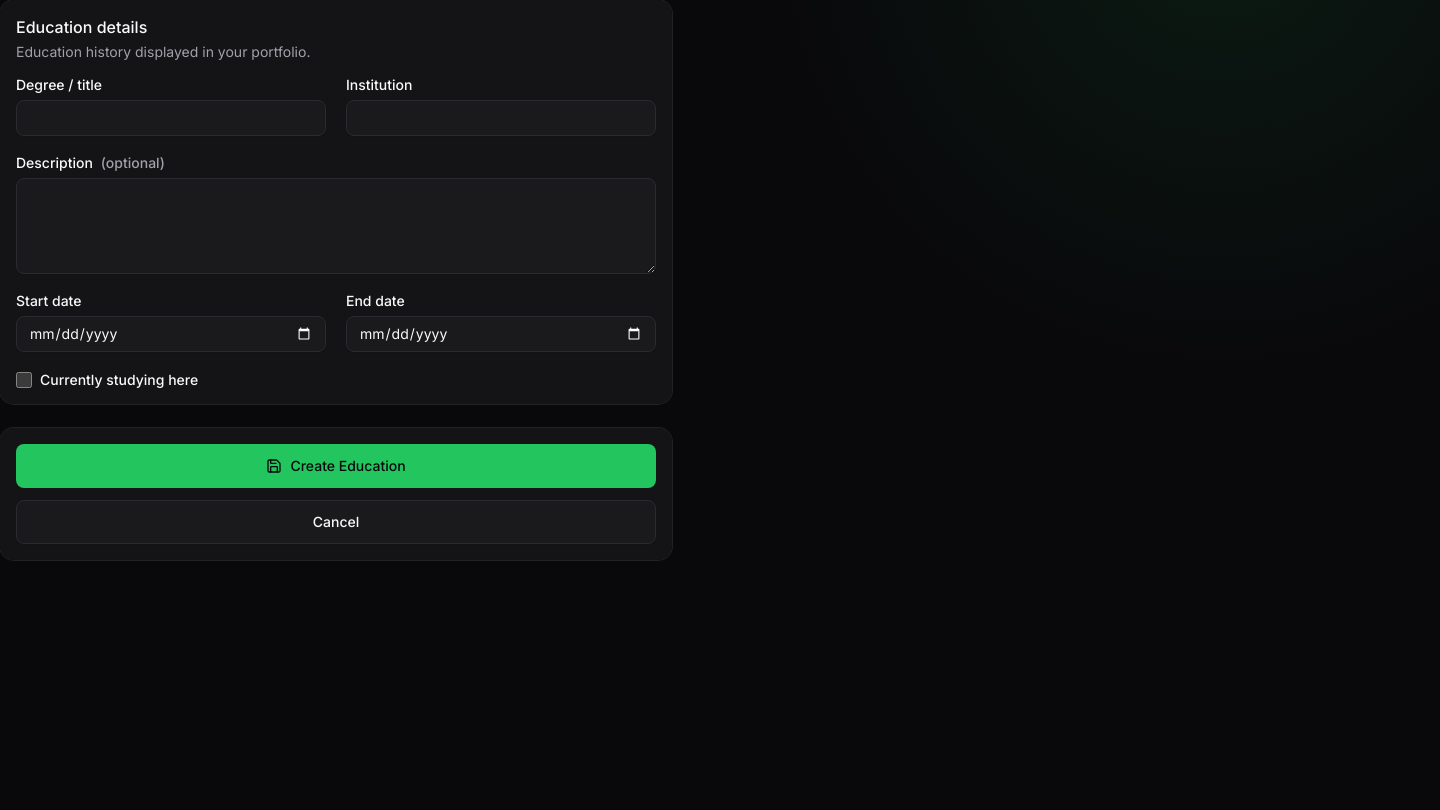
Test case: EducationForm › requires end date when not currently studying
Type "BSc CS" into the field labelled "Degree / title" at [171, 118], box [16,100,326,136]
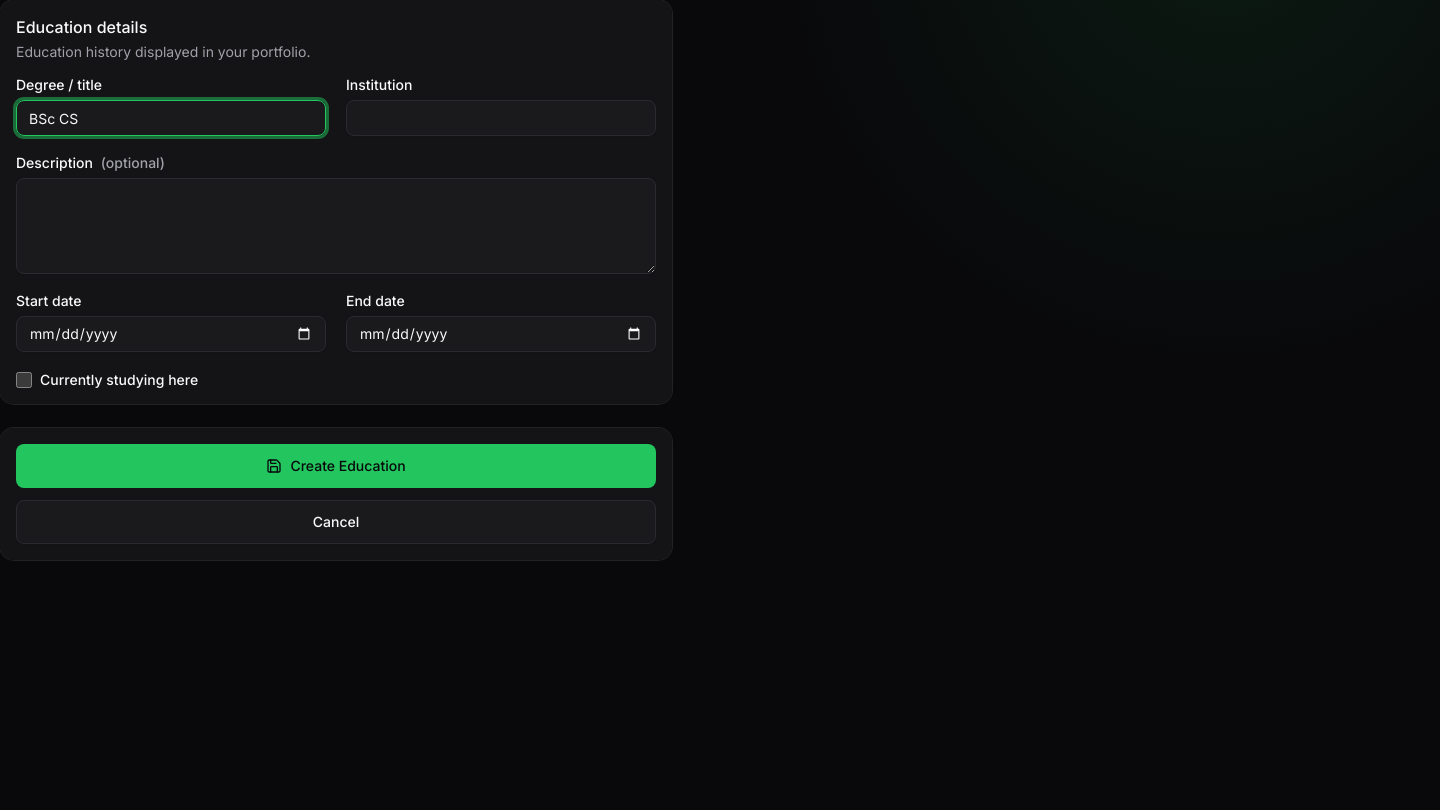
Type "MIT" into the field labelled "Institution" at [501, 118], box [346,100,656,136]
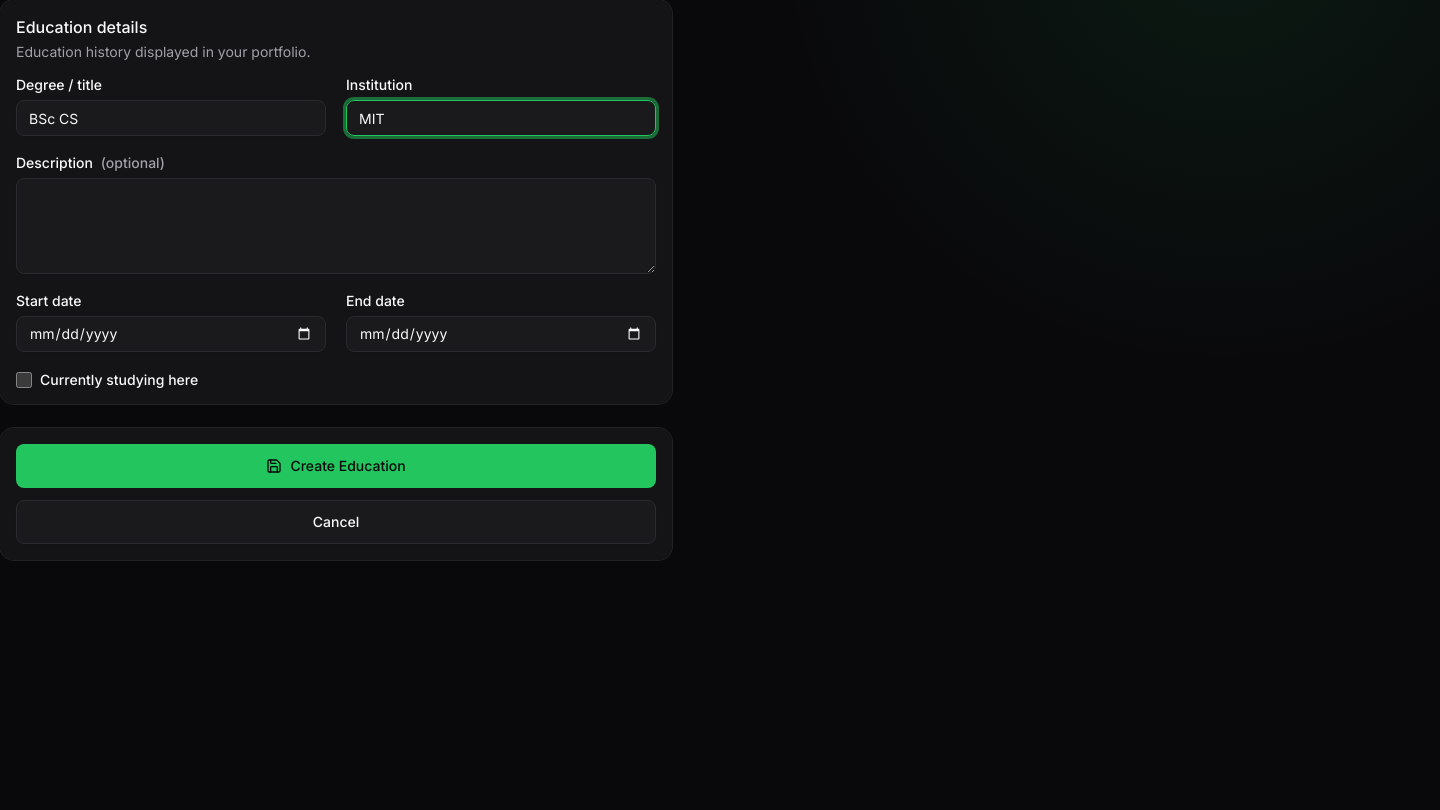
Type "2018-09-01" into the date field labelled "Start date" at [171, 334], box [16,316,326,352]
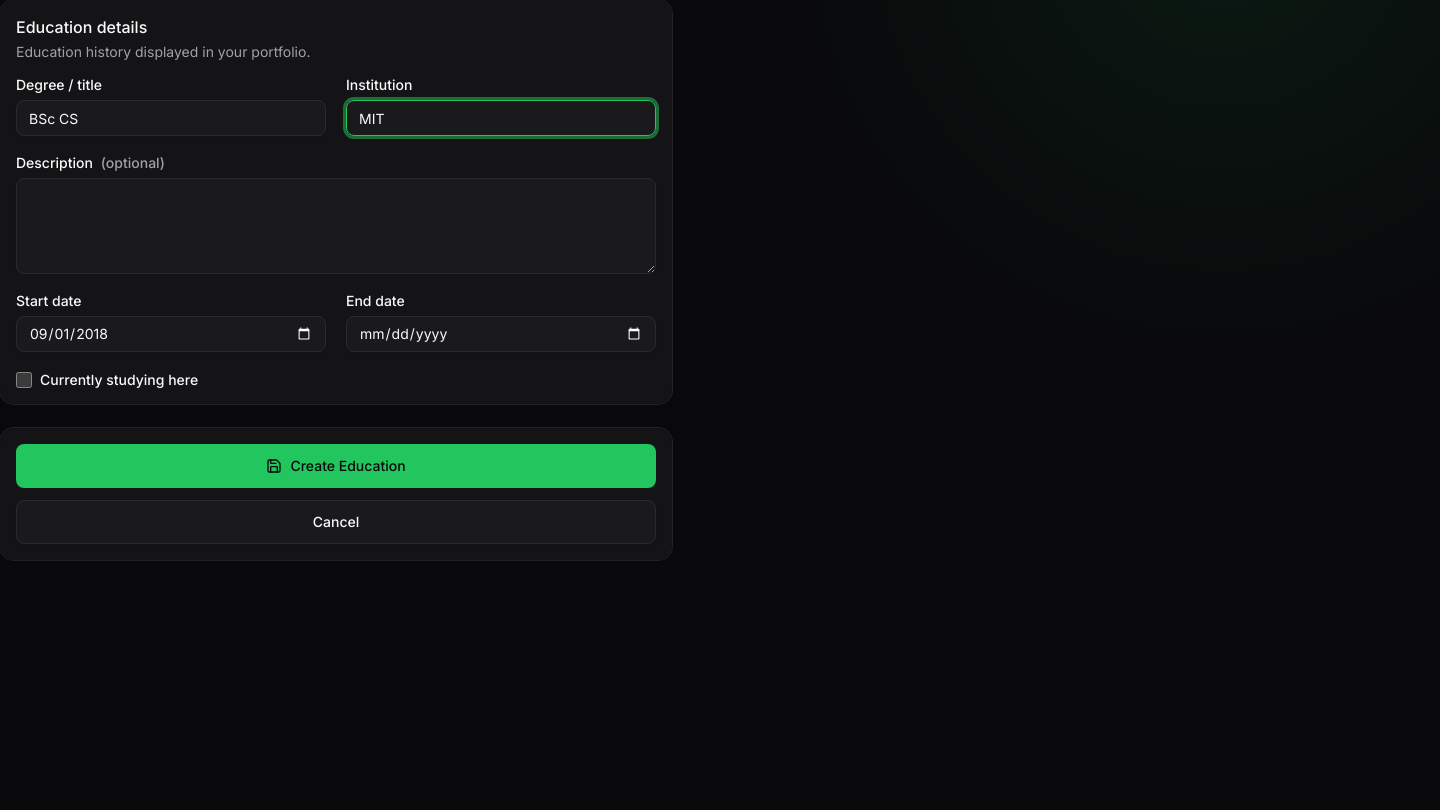
Click the button "Create Education" at [336, 466], box [16,444,656,488]
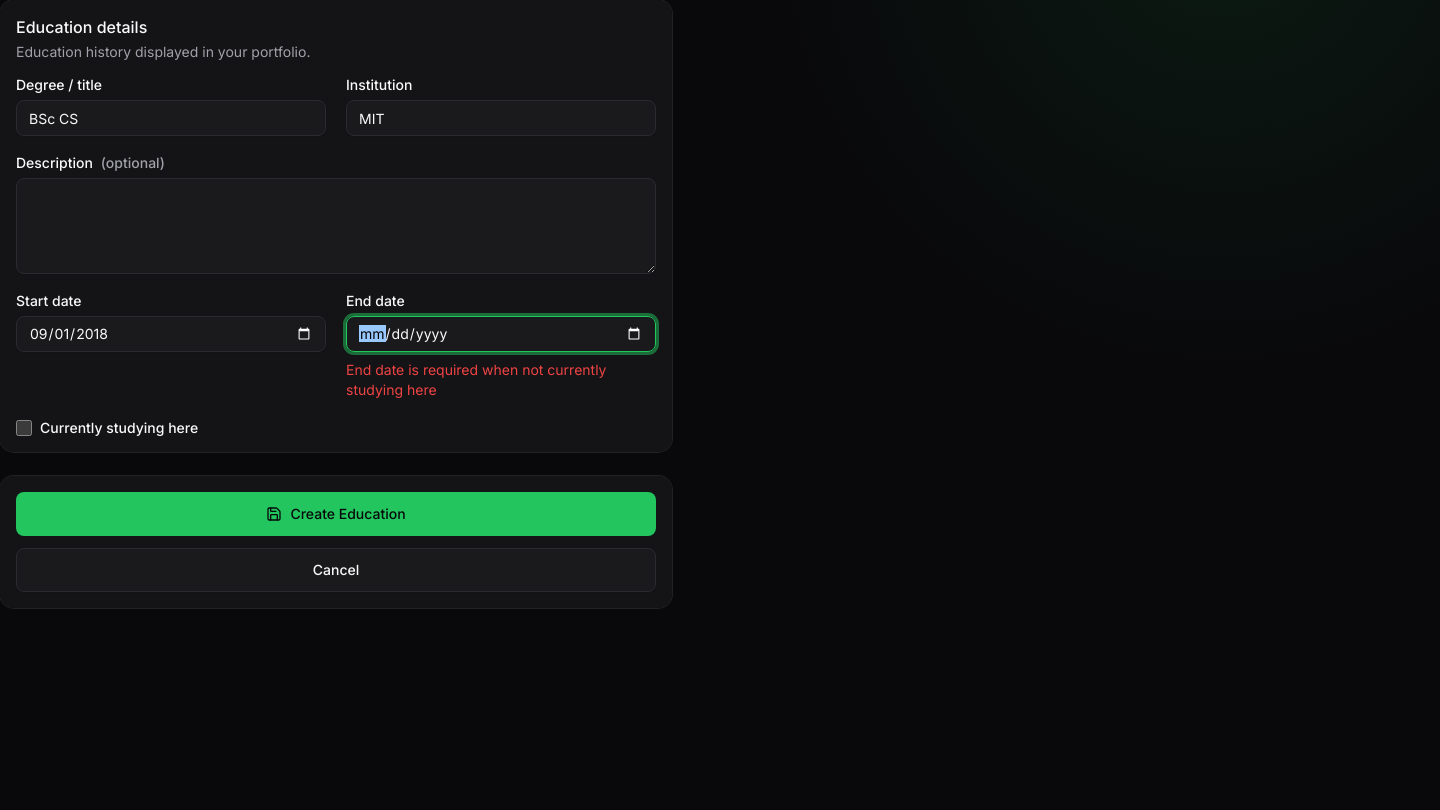
expect the text "End date is required when not currently studying here" is shown: met, box [346,361,606,398]
